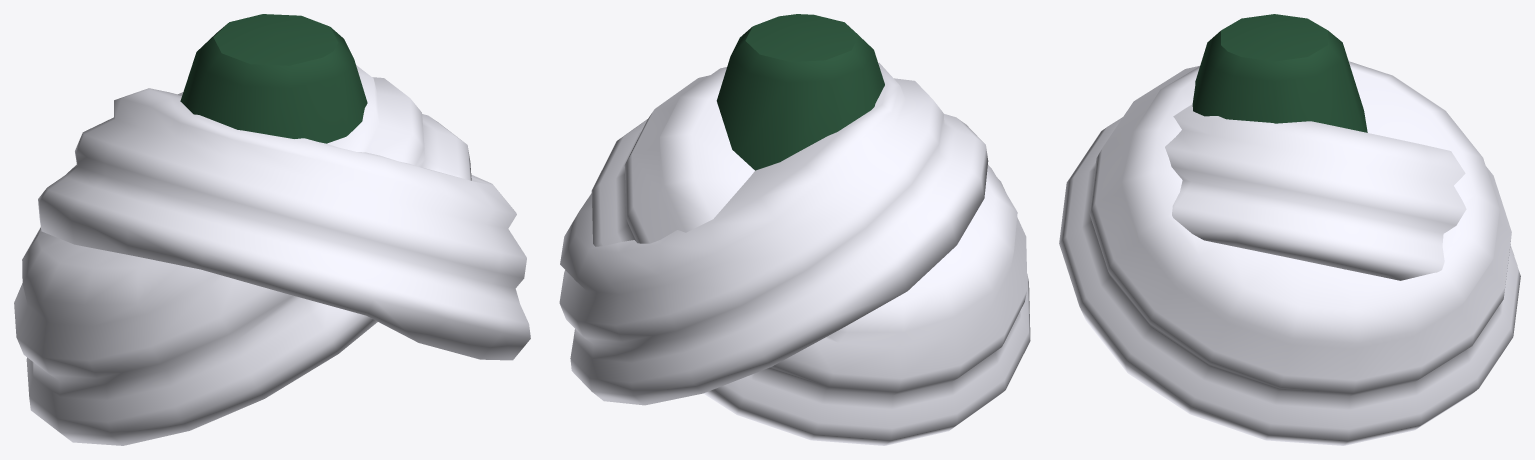
The model's file is Hat_107_01.fbx.
3 renders of one model, left to right at view 1: azimuth 30°, elevation 25°; view 2: azimuth 150°, elevation 25°; view 3: azimuth 270°, elevation 25°, orthographic. The views are drawn at different scales.
Visible parts, largest first — view 1: Hat_107_01; view 2: Hat_107_01; view 3: Hat_107_01.
Part boxes in pixels (x1=…): Hat_107_01: x1=14, y1=14, x2=530, y2=445; Hat_107_01: x1=559, y1=14, x2=1030, y2=445; Hat_107_01: x1=1059, y1=14, x2=1520, y2=445.
Bounding box in the file's own units: 42.98 × 33.1 × 42.1.
